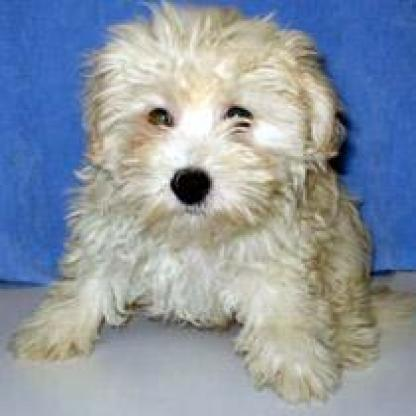miniature_poodle: (4, 0, 382, 401)
